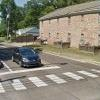Crosswalk: (2, 68, 92, 93)
